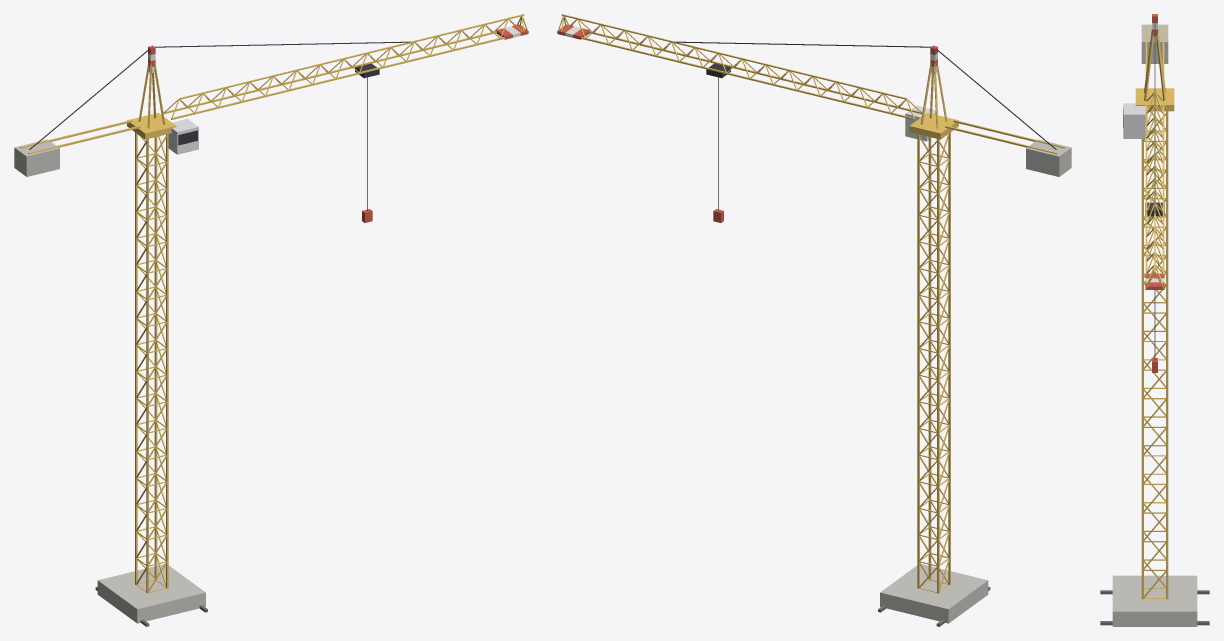
The model's file is tower_crane.glb.
3 renders of one model, left to right at view 1: azimuth 30°, elevation 25°; view 2: azimuth 150°, elevation 25°; view 3: azimuth 270°, elevation 25°, orthographic. The views are drawn at different scales.
Visible parts, largest first — view 1: tower_crane; view 2: tower_crane; view 3: tower_crane.
Part boxes in pixels (x1,y1,x2,y2): tower_crane: (14, 14, 528, 626); tower_crane: (557, 14, 1071, 626); tower_crane: (1100, 14, 1209, 626).
Size of the model in its own units: 51.45 by 54.04 by 9.
